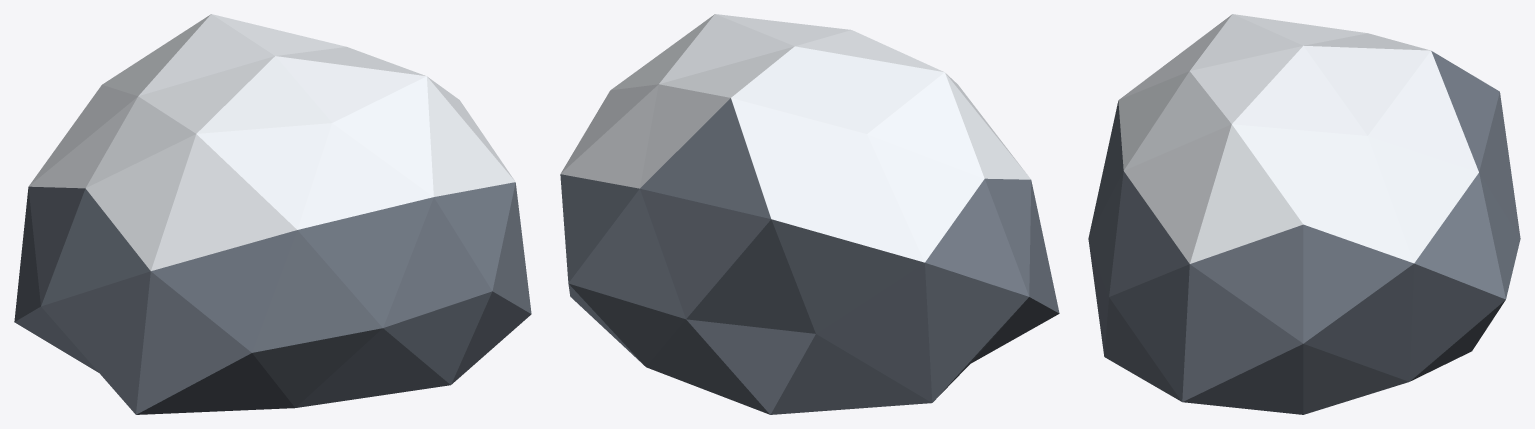
File: rock_c.glb
3 views of the same model, side by side, from view 1: azimuth 30°, elevation 25°; view 2: azimuth 150°, elevation 25°; view 3: azimuth 270°, elevation 25° (orthographic).
Visible parts, largest first — view 1: Rock; view 2: Rock; view 3: Rock.
Boxes of the visible parts, <box> form: Rock: <box>14,14,531,414</box>; Rock: <box>560,14,1059,414</box>; Rock: <box>1088,14,1520,414</box>.
Size of the model in its own units: 0.6 by 0.35 by 0.5.
